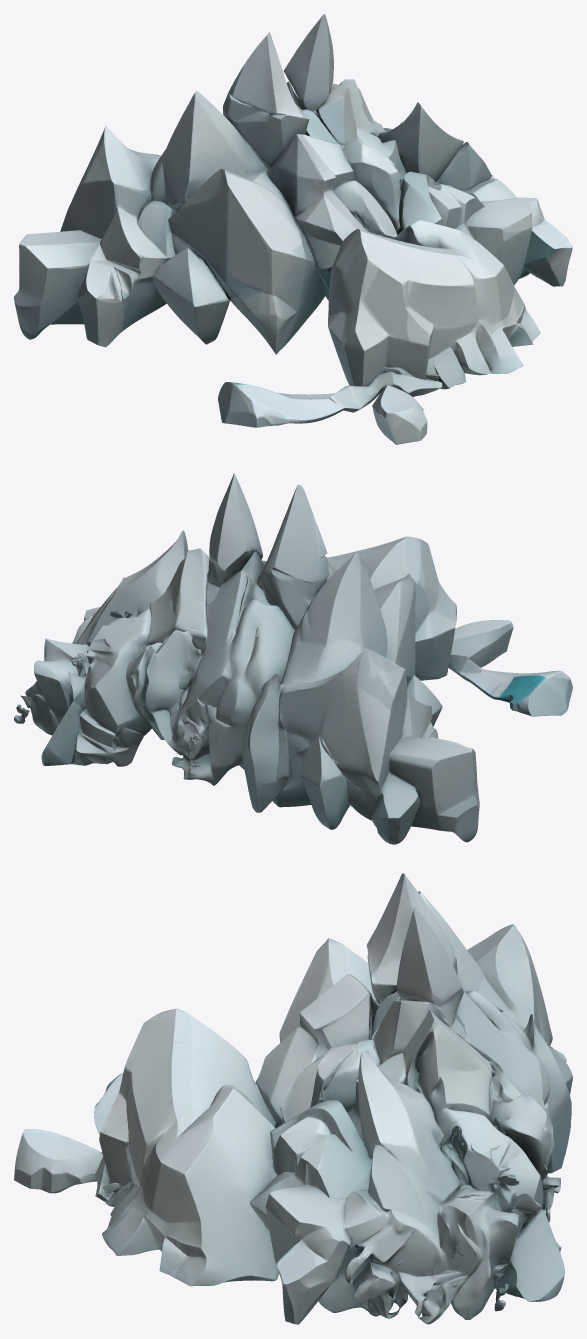
The model's file is icebergT.glb.
3 views of the same model, one above another, from view 1: azimuth 30°, elevation 25°; view 2: azimuth 150°, elevation 25°; view 3: azimuth 270°, elevation 25° (orthographic). The views are drawn at different scales.
Parts seen in each view (by area): view 1: model; view 2: model; view 3: model.
Boxes of the visible parts, x1=… form: model: x1=14, y1=14, x2=572, y2=444; model: x1=14, y1=473, x2=572, y2=844; model: x1=14, y1=873, x2=572, y2=1324.
Size of the model in its own units: 1.78 by 1.03 by 1.61.
Materials: 1 (1 with a texture image).
